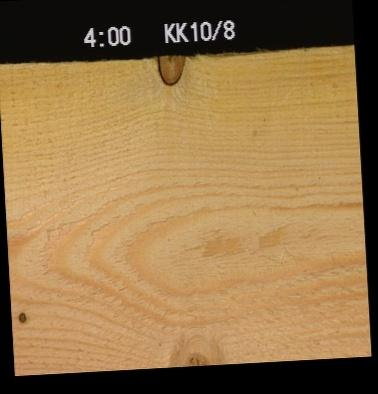dry_knot: (15, 308, 27, 324)
edge_knot: (164, 339, 226, 365), (154, 54, 186, 86)
